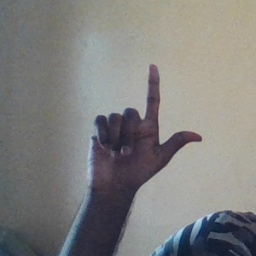L: (83, 63, 204, 188)
